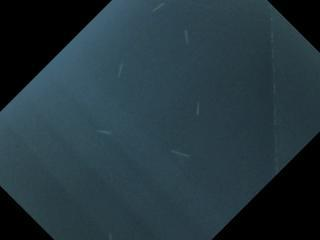crack: (266, 4, 285, 178)
scratch: (148, 0, 166, 18), (170, 149, 191, 158), (105, 229, 117, 240), (117, 63, 125, 77), (195, 99, 201, 116), (96, 129, 112, 135), (184, 29, 190, 43)
